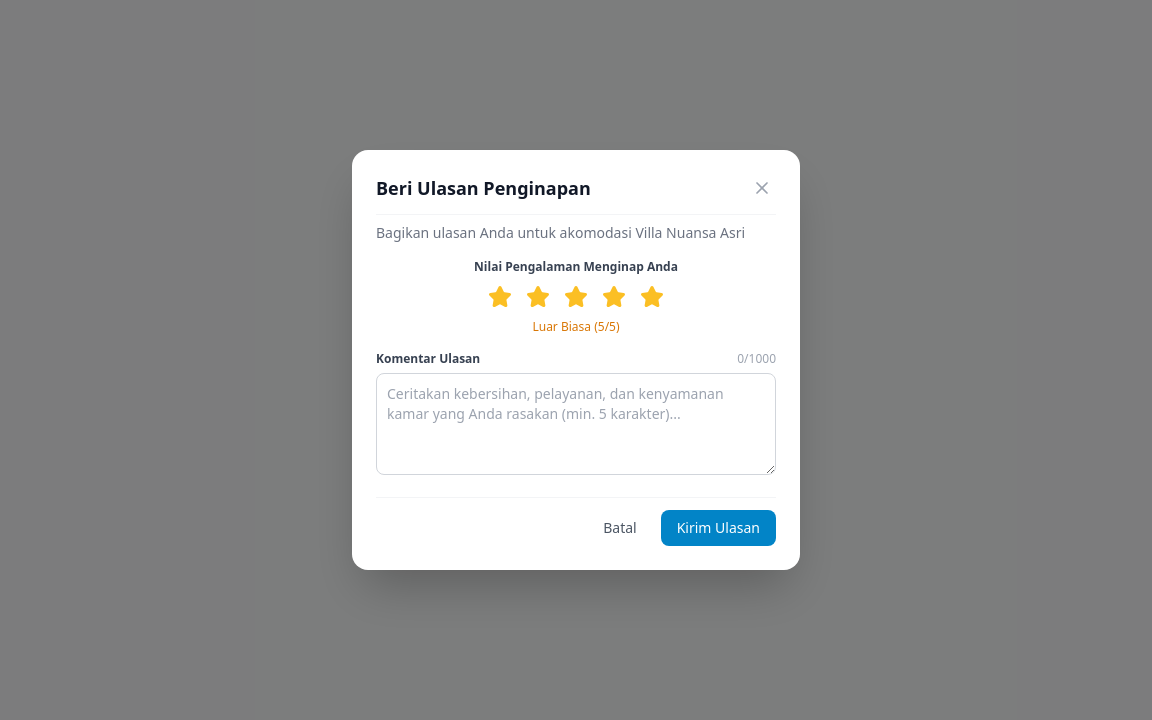
it: ReviewFormModal › shows validation error when comment is shorter than 5 characters
Replace the text in the text box with placeholder "Ceritakan kebersihan" with "Oke" at (576, 424), box left=376, top=373, right=776, bottom=475
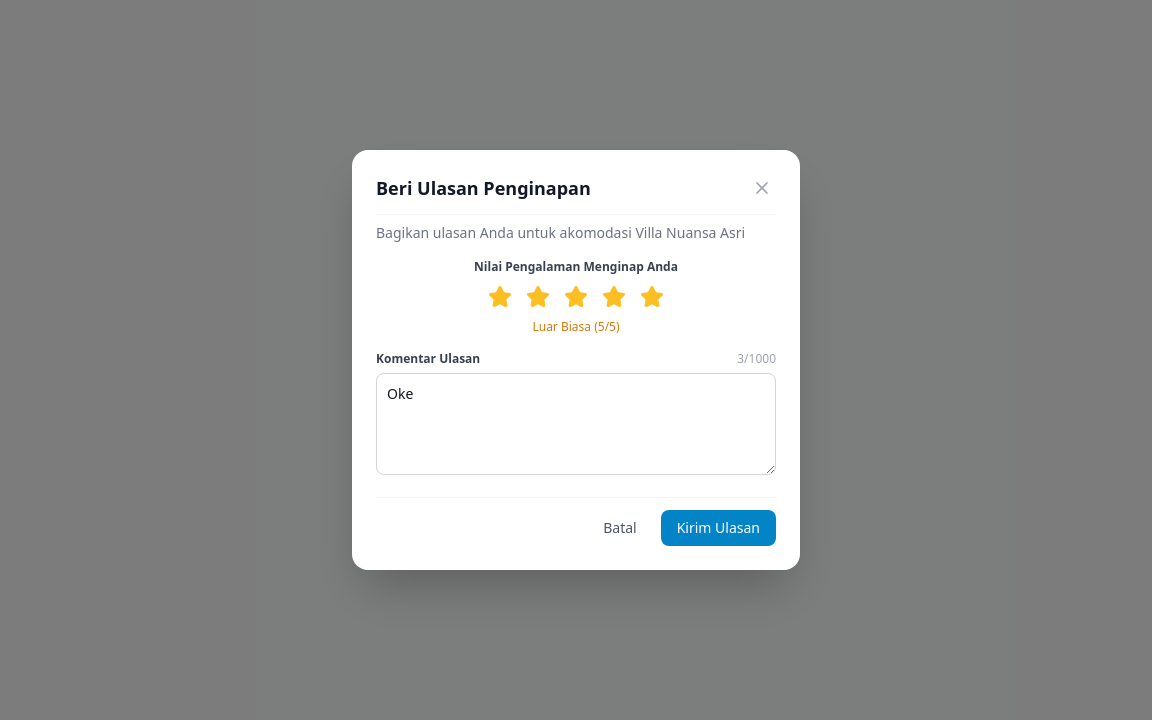
Click the button "Kirim Ulasan".
click(718, 528)  # box left=661, top=510, right=776, bottom=546
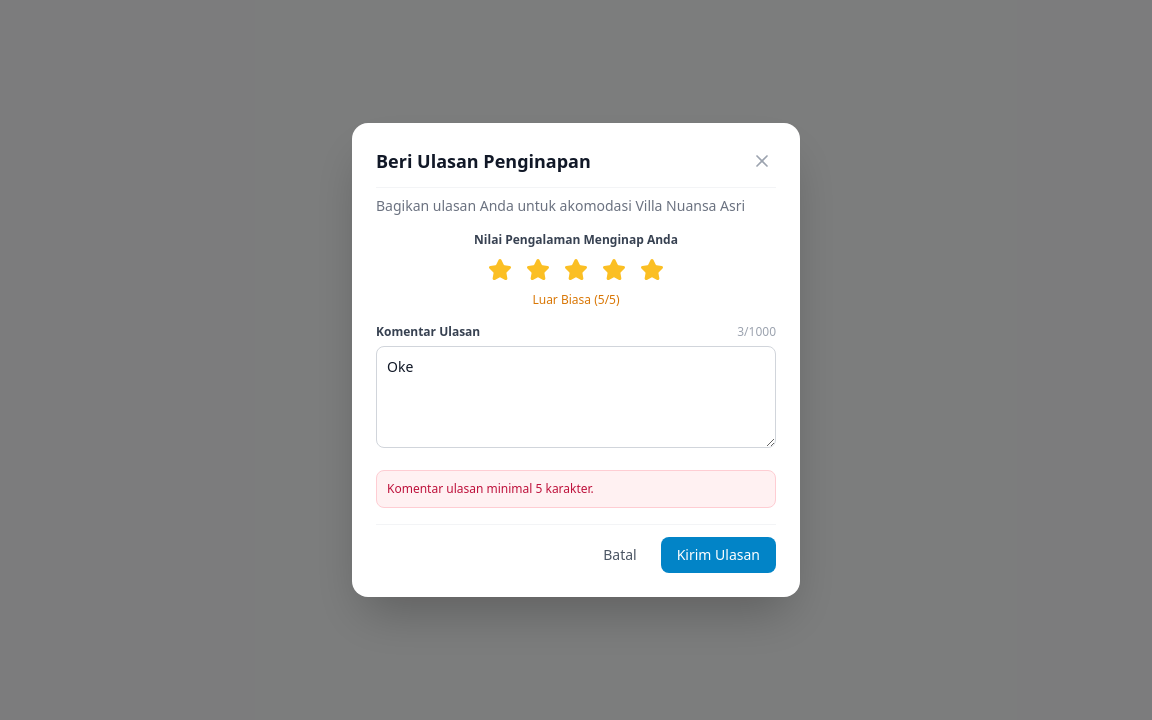
Now the text "Komentar ulasan minimal 5 karakter." is shown, box left=376, top=470, right=776, bottom=508
